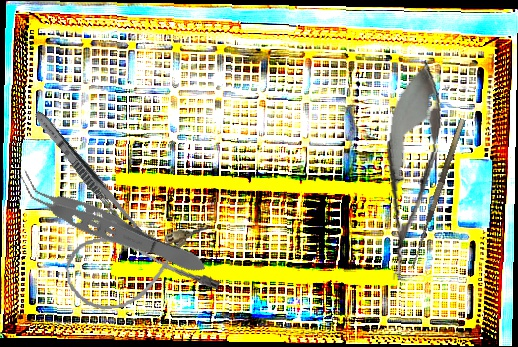Cannula: (61, 222, 222, 315)
Dressing Forceps: (30, 107, 152, 249)
Hook Surgical: (408, 118, 474, 272)
Micro Scissor: (370, 56, 451, 286)
Tissue Forceps: (9, 168, 212, 283)
